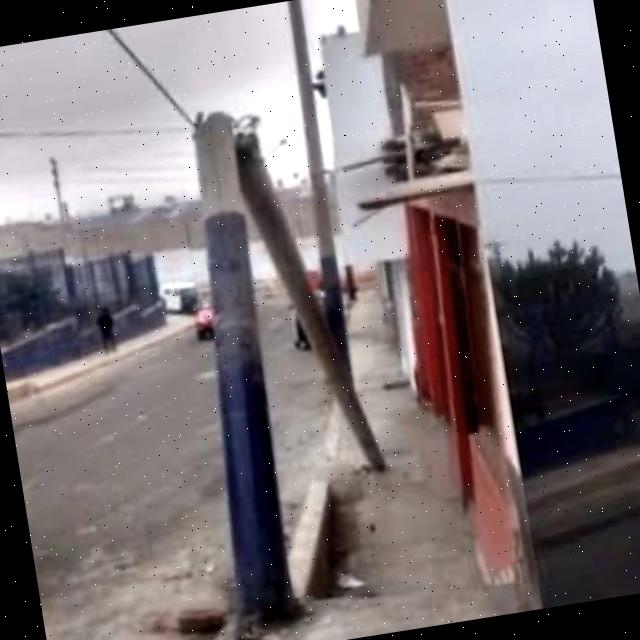Broken Pole: (187, 107, 388, 621)
